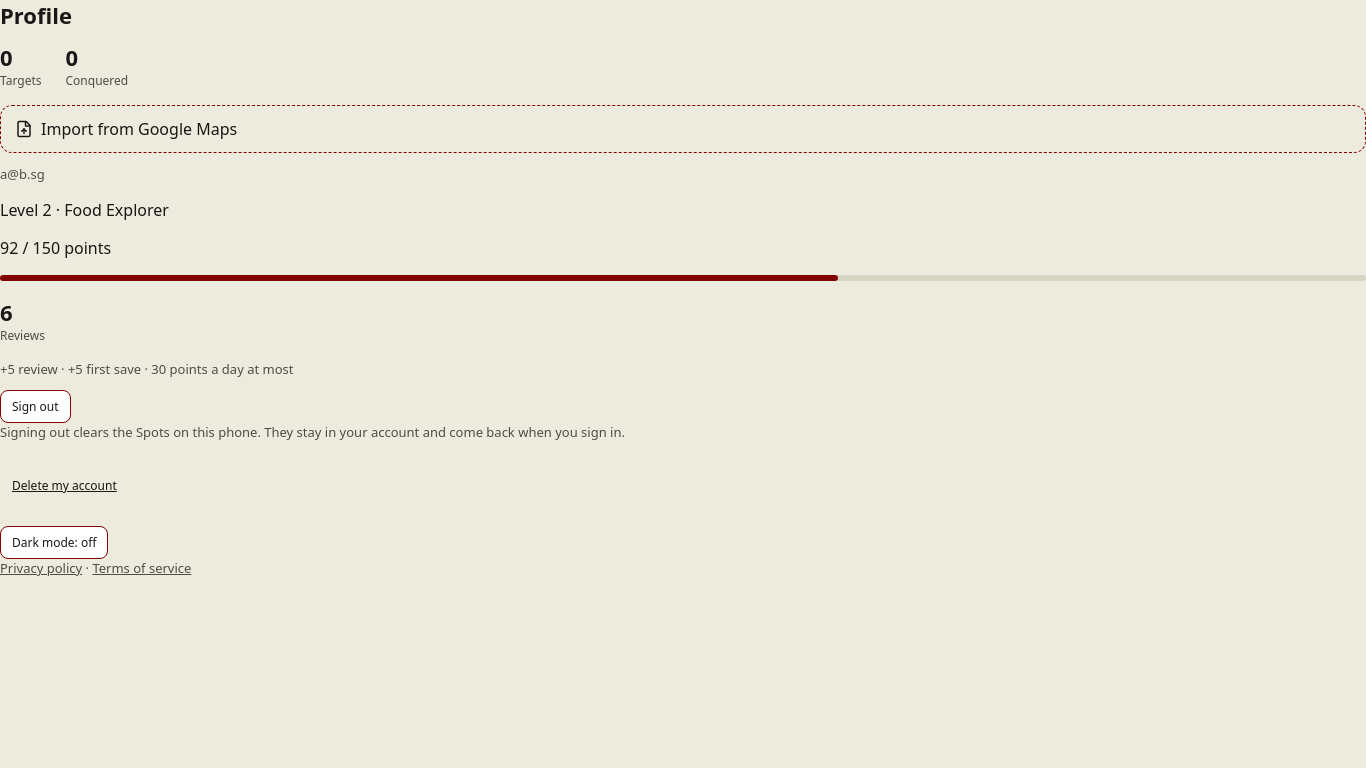
Test: deleting the account › the final button stays disabled until DELETE is typed exactly
The image size is (1366, 768).
Step 1. Click the button "Delete my account" → x=64, y=486, box [0, 469, 129, 502]
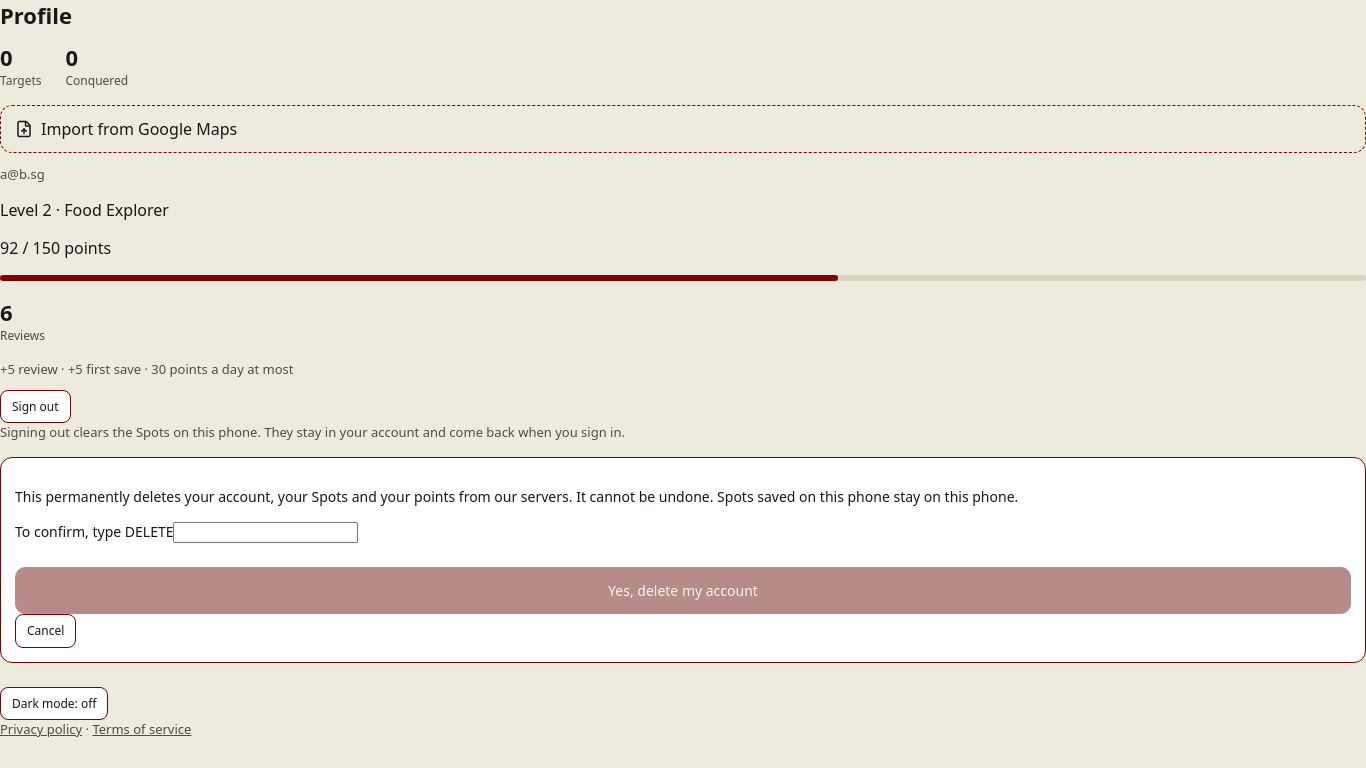
Expected: the button "Yes, delete my account" is disabled, [15, 567, 1351, 614]
Step 2. Type "delete" into the field labelled "To confirm, type DELETE" → x=266, y=532, box [174, 522, 358, 543]
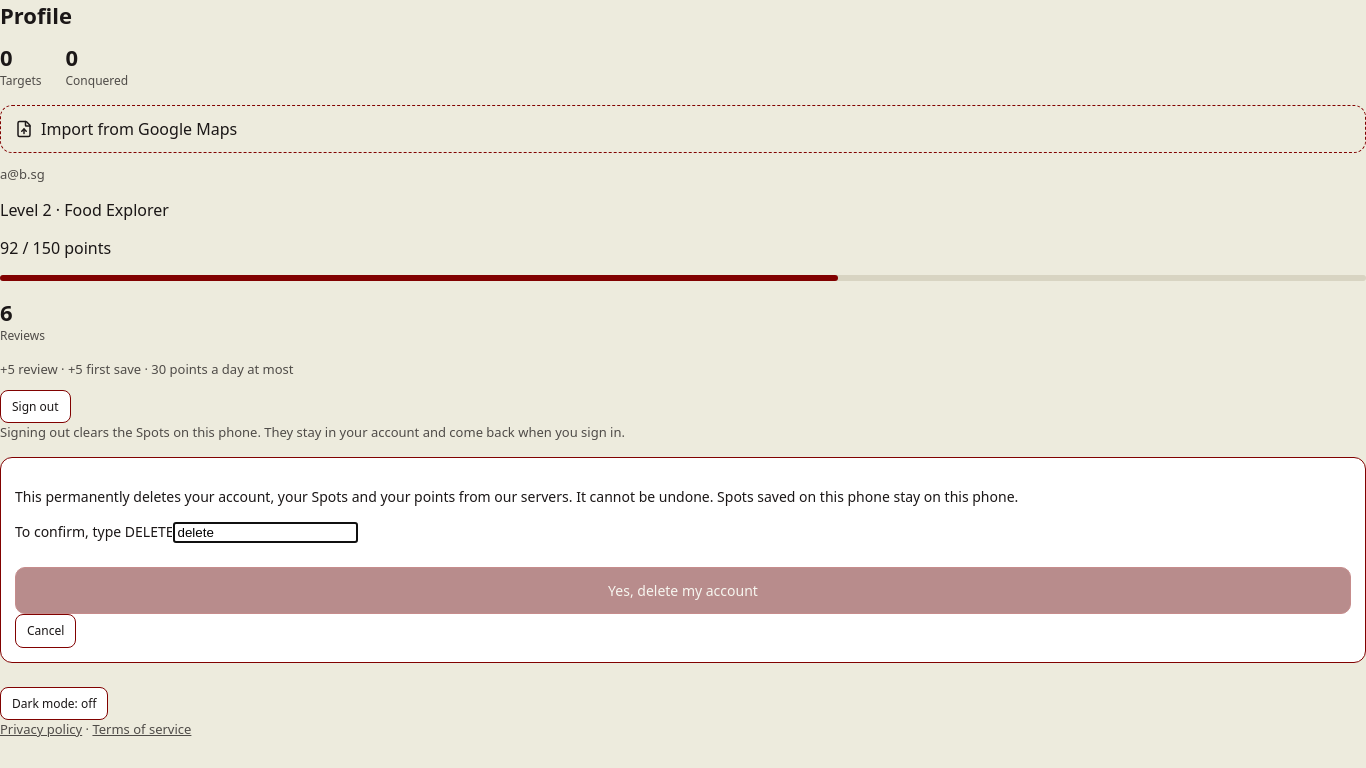
Expected: the button "Yes, delete my account" is disabled, [15, 567, 1351, 614]
Step 3. Replace the text in the field labelled "To confirm, type DELETE" with "DELETE" → x=266, y=532, box [174, 522, 358, 543]
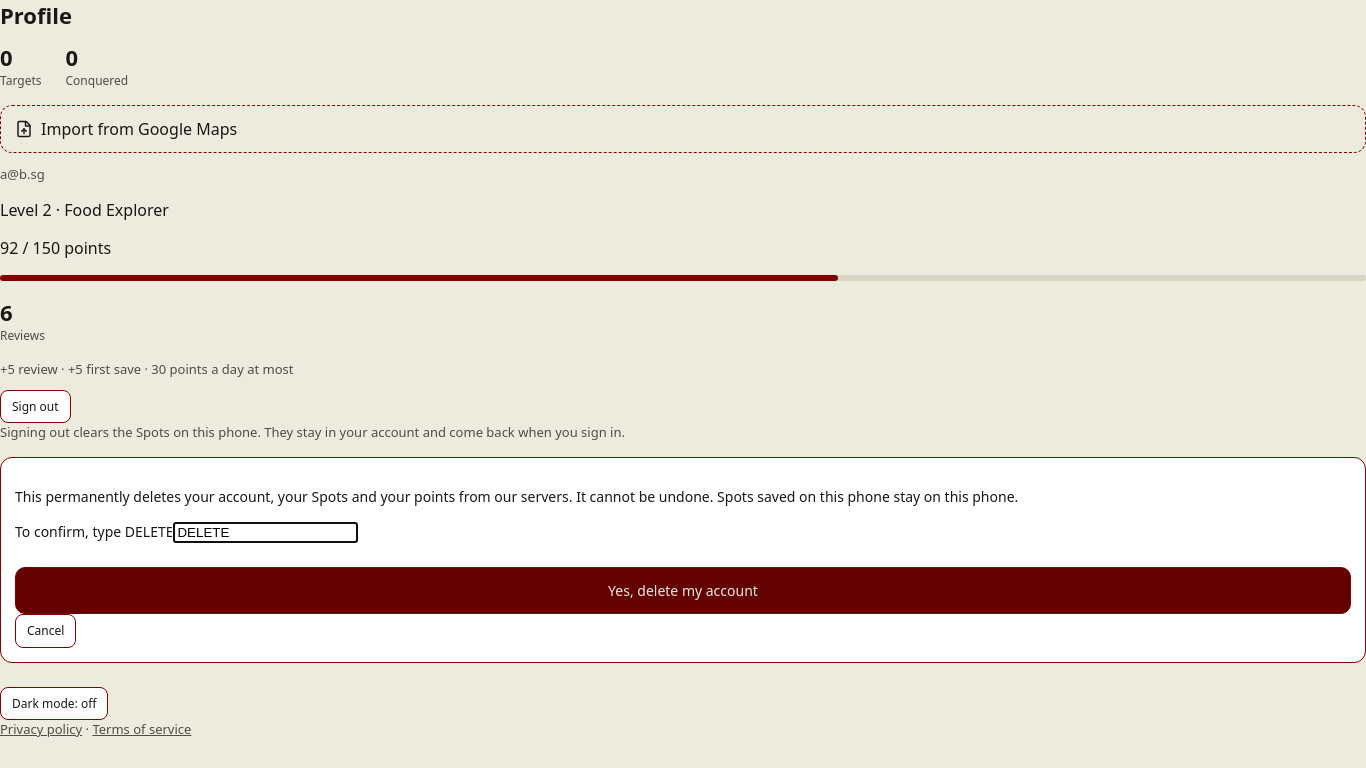
Expected: the button "Yes, delete my account" is enabled, [15, 567, 1351, 614]
